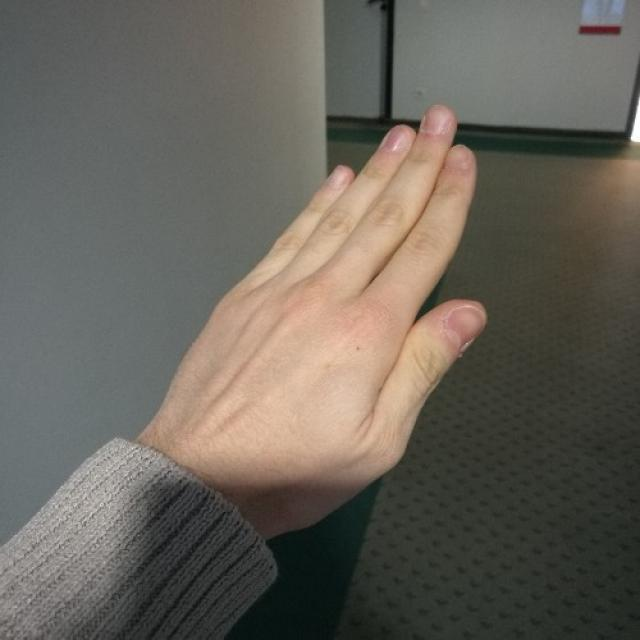paper: (157, 104, 490, 521)
